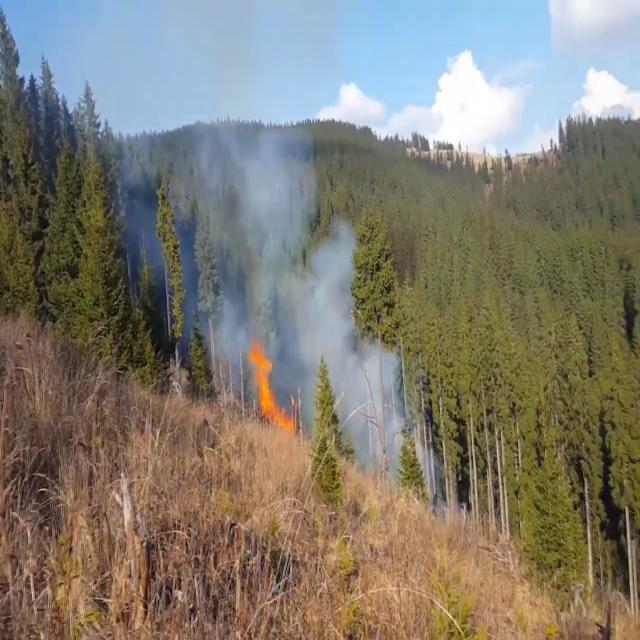Fire: (246, 329, 278, 425)
Smoke: (124, 49, 338, 409), (294, 214, 400, 476)
